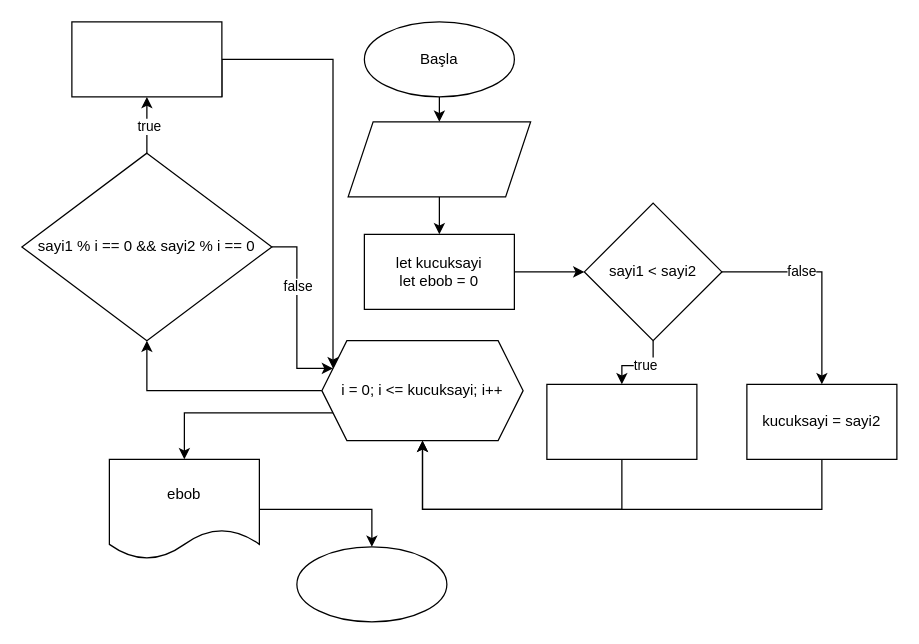
The diagram is 919 pixels wide and 644 high, and some of its shapes have lost their labels. The shapes that lost their labels are listed below. From the top down, each one's centre as x and y in pixels, then its label:
At point 146,59: "ebob = i".
At point 439,159: "let sayi1 let sayi2".
At point 621,421: "kucuksayi = sayi1".
At point 371,584: "Bitiş".
